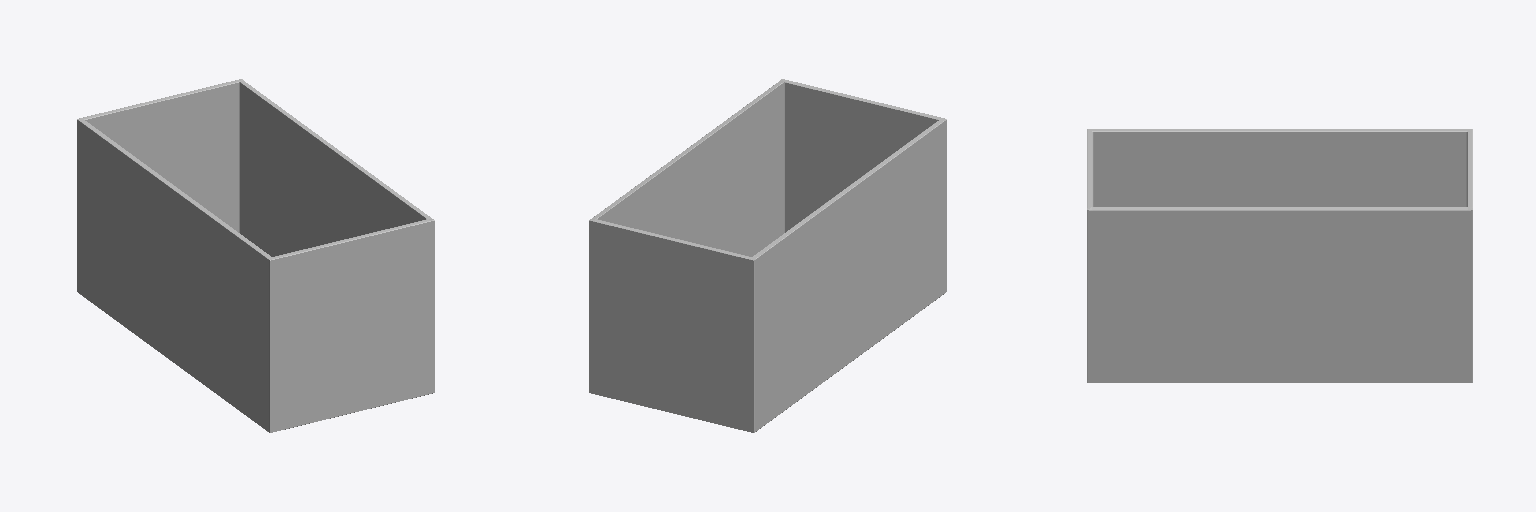
Rendered from nadrz.obj.
The picture shows the model from 3 angles: view 1: azimuth 30°, elevation 25°; view 2: azimuth 150°, elevation 25°; view 3: azimuth 270°, elevation 25°; orthographic projection.
Visible parts, largest first — view 1: Cube.019_Cube.036; view 2: Cube.019_Cube.036; view 3: Cube.019_Cube.036.
Boxes of the visible parts, box(x1,y1,x2,y2) form: Cube.019_Cube.036: box(77, 79, 434, 432); Cube.019_Cube.036: box(589, 79, 946, 432); Cube.019_Cube.036: box(1087, 129, 1472, 382).
Bounding box in the file's own units: 1.27 × 1.27 × 2.57.